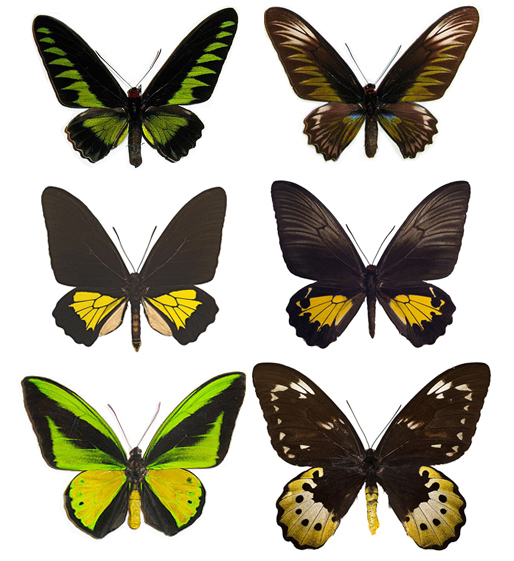kelebek: (250, 357, 493, 552), (14, 373, 247, 539), (34, 179, 237, 365), (255, 3, 487, 163), (267, 177, 475, 349), (28, 11, 247, 167)
